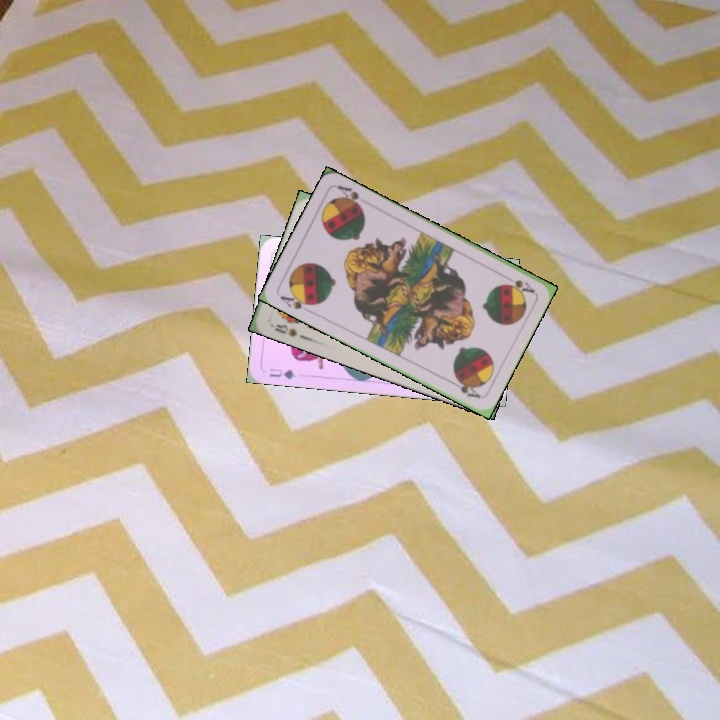GU: (265, 364, 298, 382)
S8: (266, 320, 300, 339)
SA: (276, 288, 317, 316), (499, 271, 537, 296)
